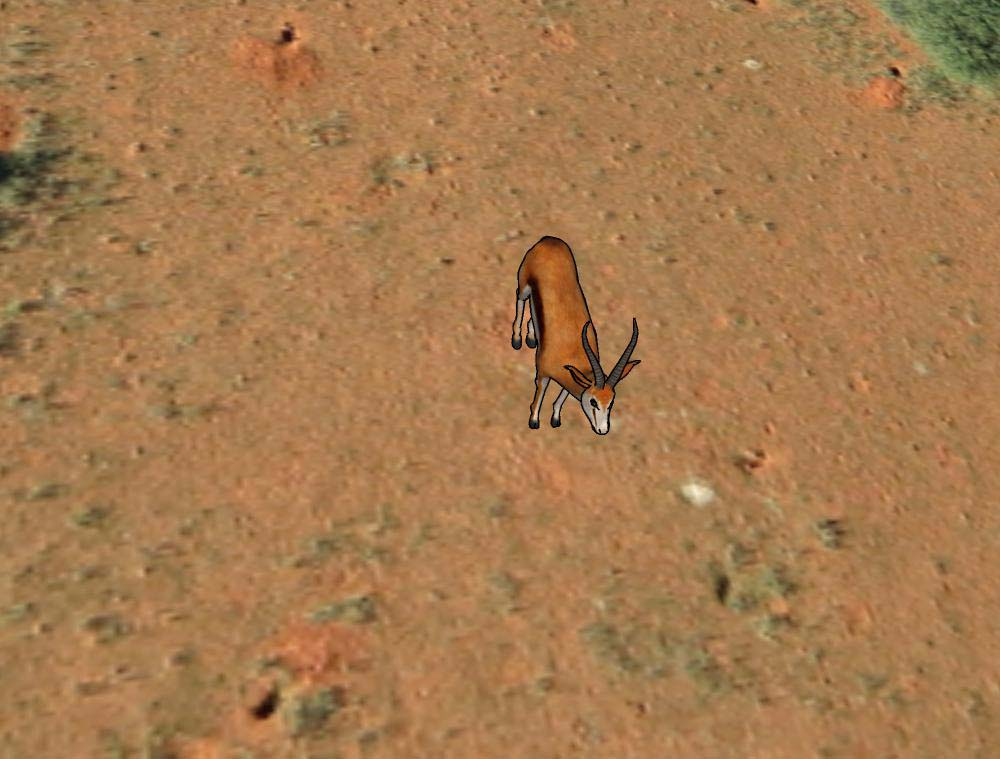springbok: (507, 229, 646, 448)
